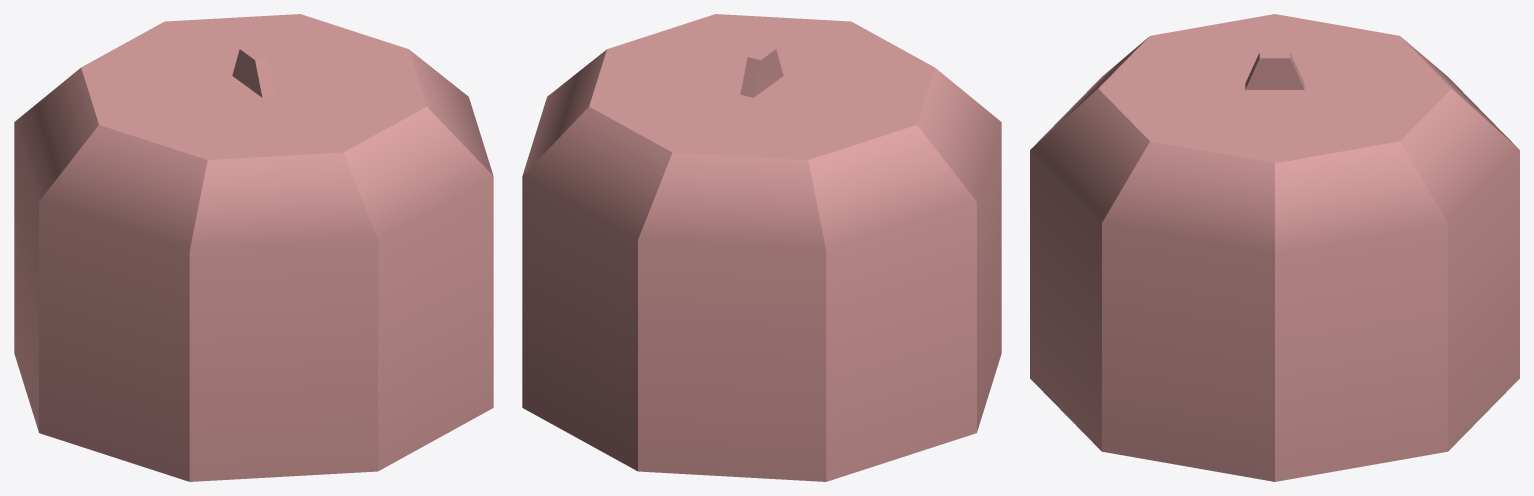
Rendered from Concrete_Cylinder_COL.fbx.
The picture shows the model from 3 angles, left to right: view 1: azimuth 30°, elevation 25°; view 2: azimuth 150°, elevation 25°; view 3: azimuth 270°, elevation 25°; orthographic projection.
Visible parts, largest first — view 1: Concrete_Cylinder_COL; view 2: Concrete_Cylinder_COL; view 3: Concrete_Cylinder_COL.
Part boxes in pixels (bbox=[...]): Concrete_Cylinder_COL: bbox=[14, 14, 493, 481]; Concrete_Cylinder_COL: bbox=[522, 14, 1001, 481]; Concrete_Cylinder_COL: bbox=[1030, 14, 1519, 481].
Size of the model in its own units: 154 by 112 by 154.
